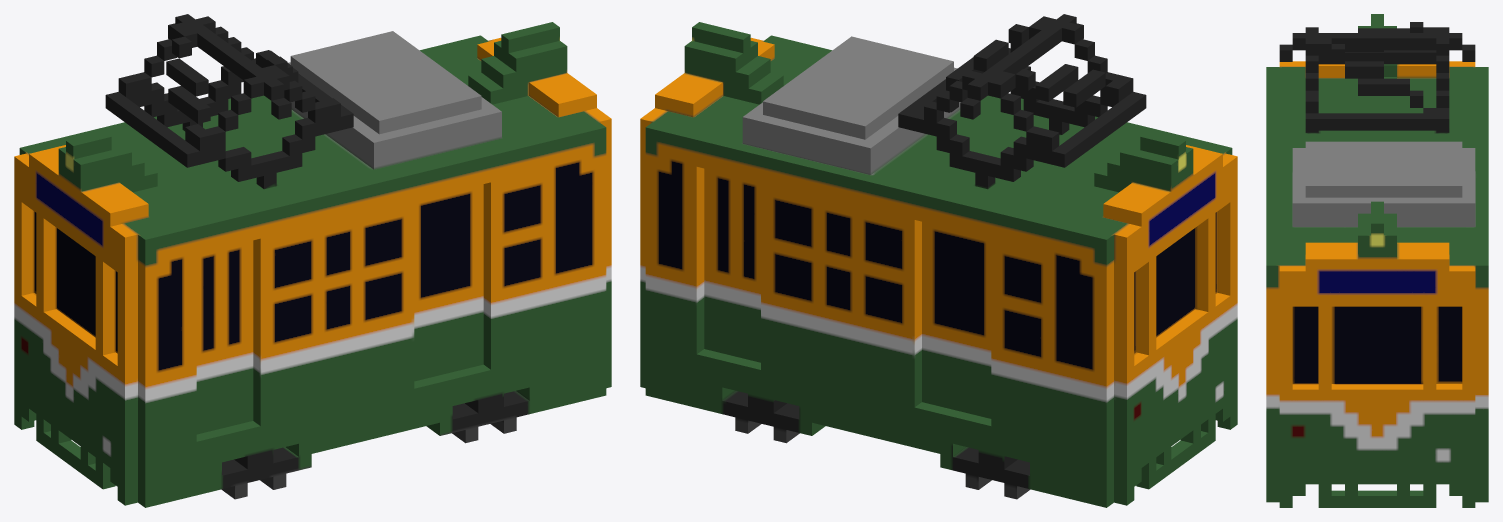
The model's file is kagoshimashiden1.glb.
The picture shows the model from 3 angles, left to right: view 1: azimuth 30°, elevation 25°; view 2: azimuth 150°, elevation 25°; view 3: azimuth 270°, elevation 25°; orthographic projection. The views are drawn at different scales.
Parts seen in each view (by area): view 1: kagoshimashiden1; view 2: kagoshimashiden1; view 3: kagoshimashiden1.
Boxes of the visible parts, x1,y1,x2,y2 form: kagoshimashiden1: (14, 14, 611, 507); kagoshimashiden1: (640, 14, 1237, 507); kagoshimashiden1: (1266, 14, 1488, 507).
Size of the model in its own units: 0.76 by 0.58 by 0.34.
1 material, 1 textured.
